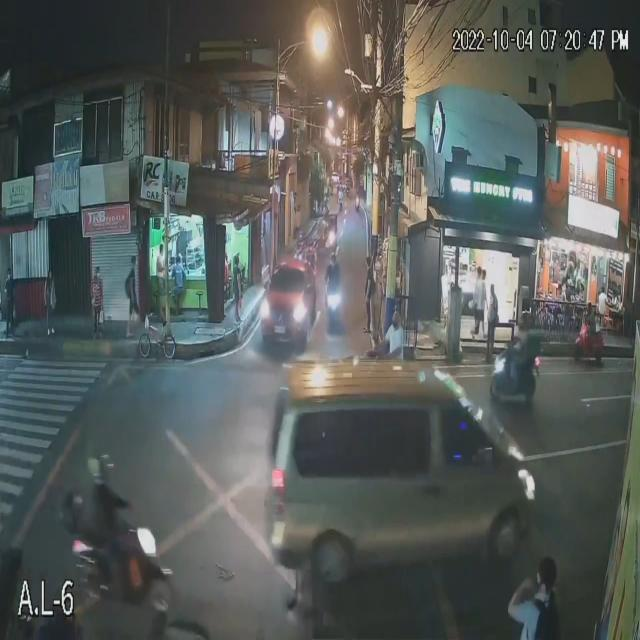Full-Faced: (88, 453, 114, 486), (328, 249, 339, 266)
